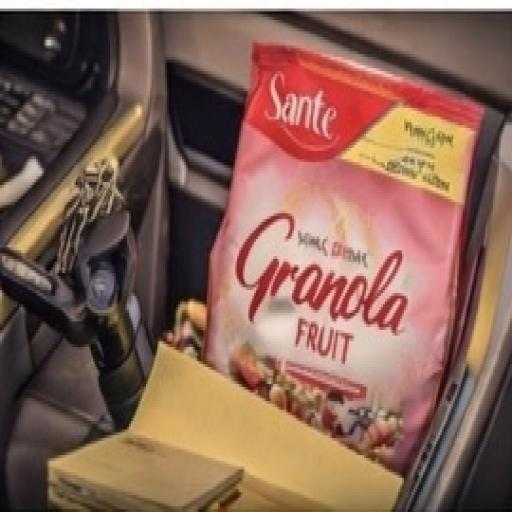granola: (185, 21, 498, 483)
